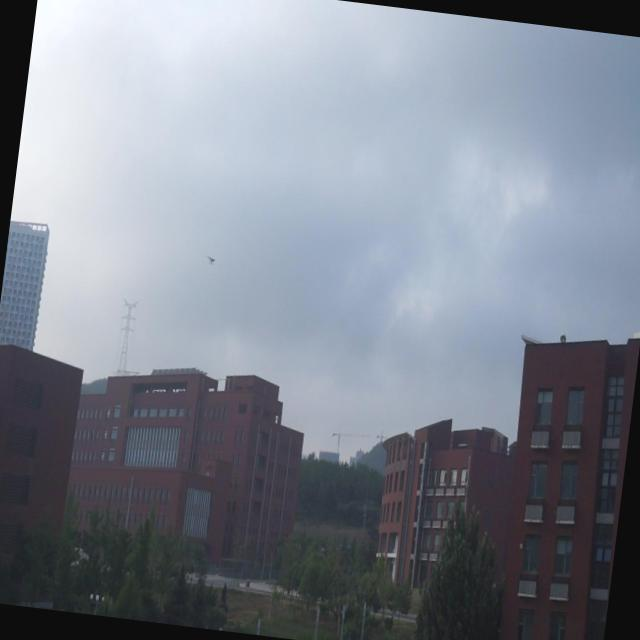drone: (204, 247, 218, 271)
